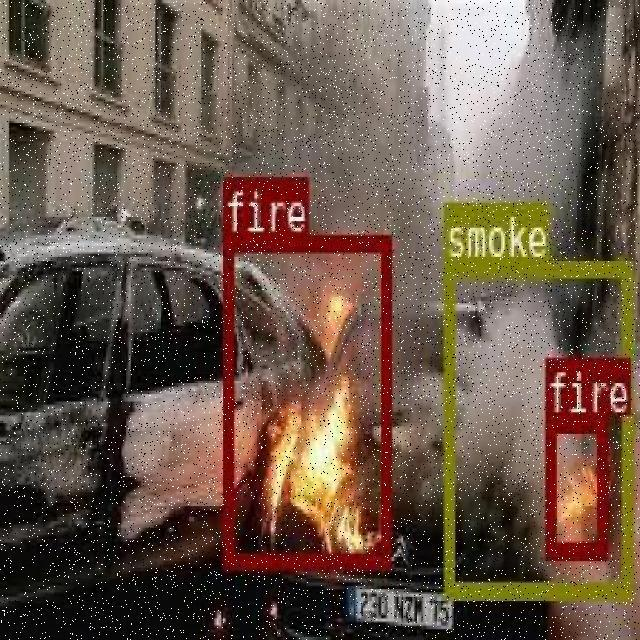Smoke: (474, 261, 598, 591)
